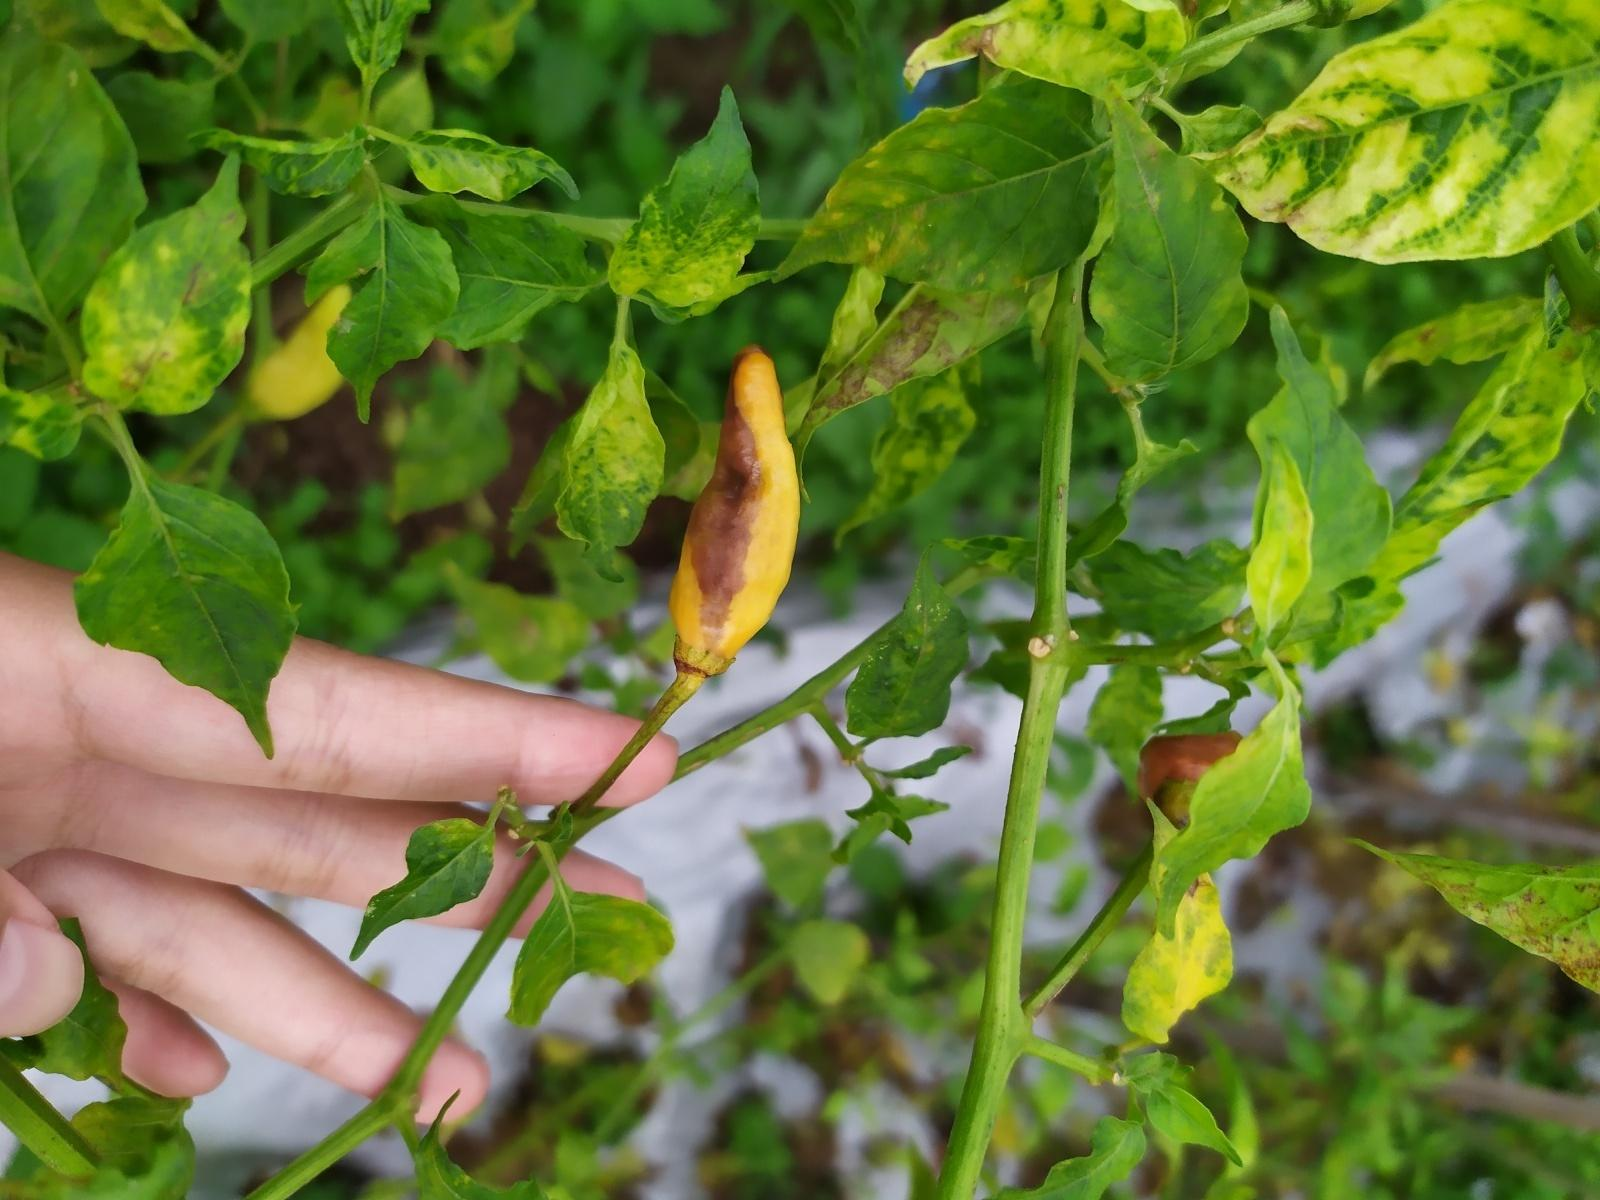antraknosa: (666, 342, 803, 676)
